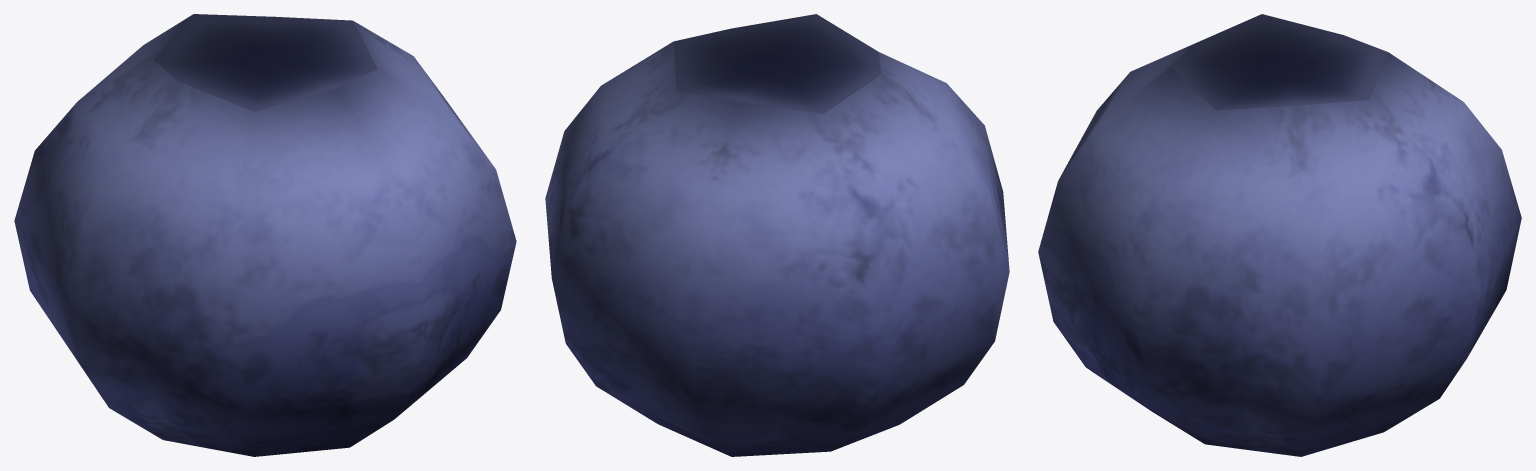
The model's file is Blueberry.fbx.
3 renders of one model, left to right at view 1: azimuth 30°, elevation 25°; view 2: azimuth 150°, elevation 25°; view 3: azimuth 270°, elevation 25°, orthographic. The views are drawn at different scales.
Visible parts, largest first — view 1: Blueberry; view 2: Blueberry; view 3: Blueberry.
Part boxes in pixels (x1,y1,x2,y2): Blueberry: [14, 14, 516, 456]; Blueberry: [545, 14, 1009, 456]; Blueberry: [1038, 14, 1521, 456].
Size of the model in its own units: 8.51 by 7.08 by 8.51.
